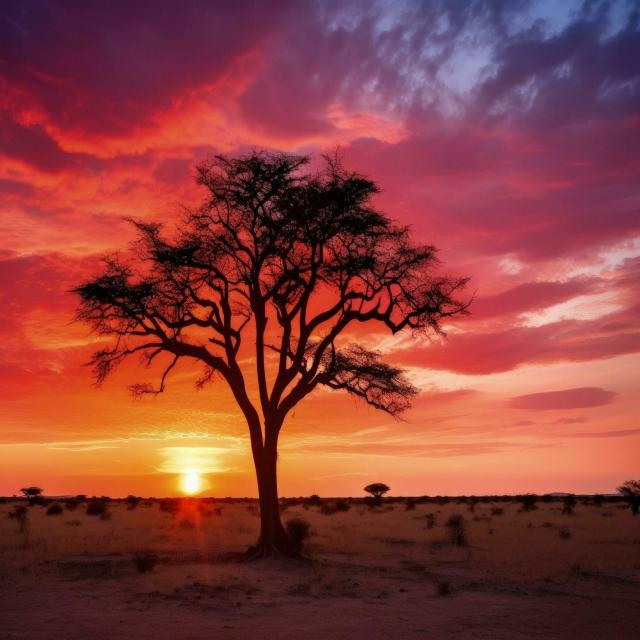Acacia: (81, 116, 475, 563)
